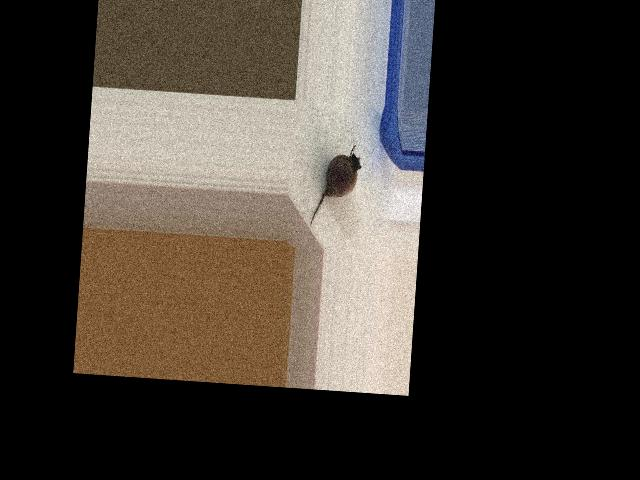beet: (309, 143, 362, 229)
